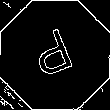P_S: (28, 25, 82, 85)
